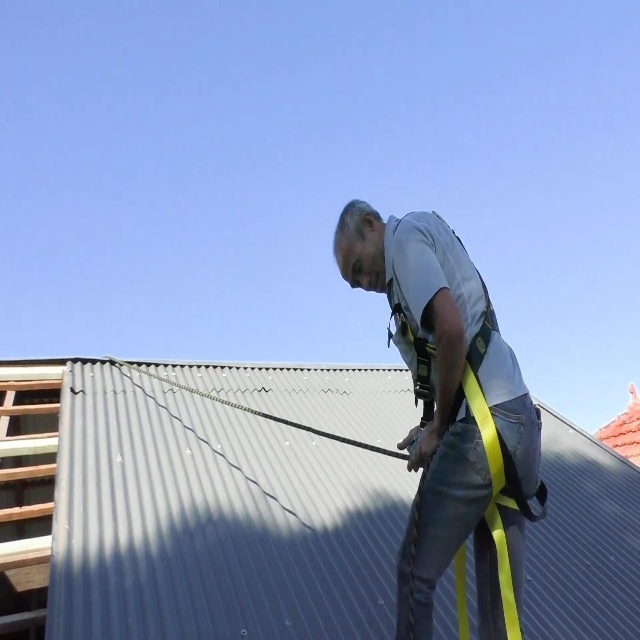Arnes_seguridad: (386, 190, 551, 574)
